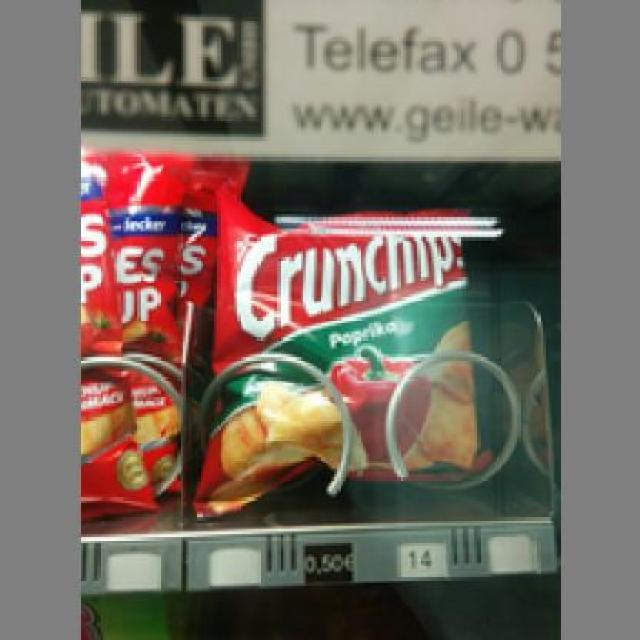Chips: (208, 192, 494, 498)
